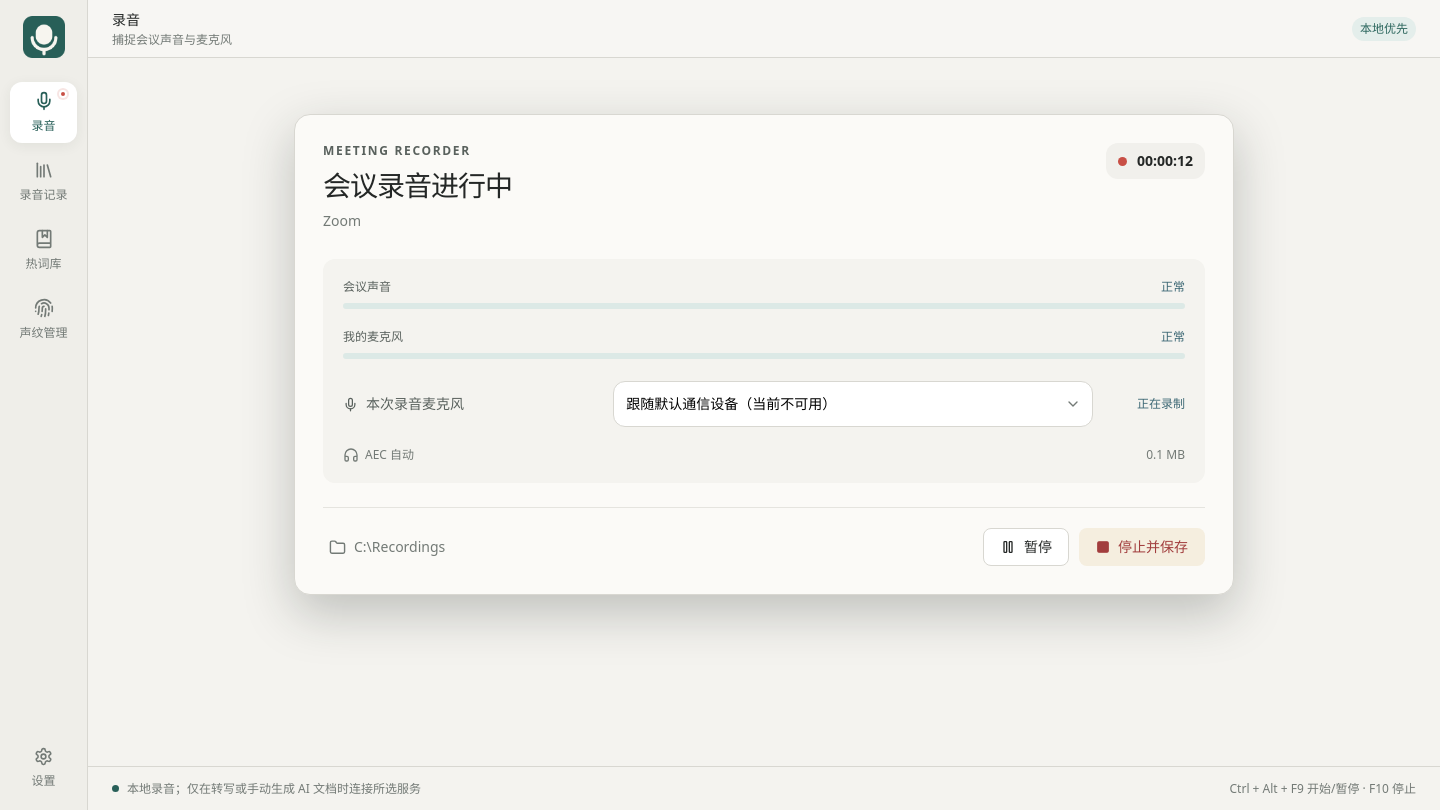
Test: Nota UI states › can disable only the current recording microphone
Select "不录制麦克风" in the dropdown labelled "本次录音麦克风" at (853, 404), box [613,381,1093,427]
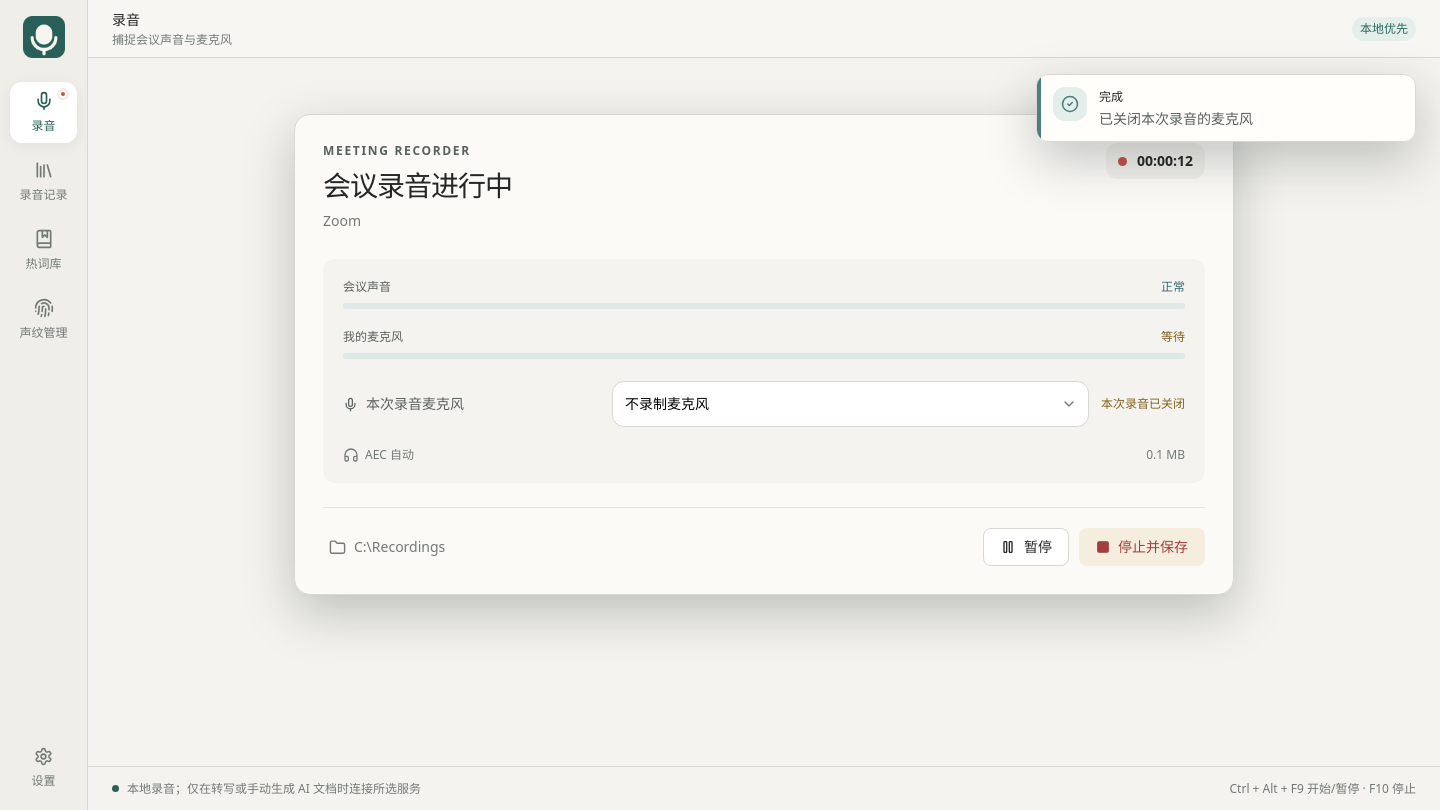
Expected: the text "本次录音已关闭" is shown, [1101,396,1185,412]
